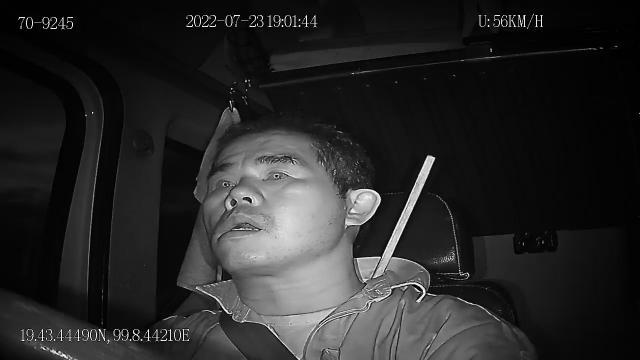SafeDriving: (218, 210, 270, 240), (256, 154, 298, 185), (257, 162, 296, 186), (206, 170, 238, 196)
Seatbelt: (218, 308, 302, 360)
